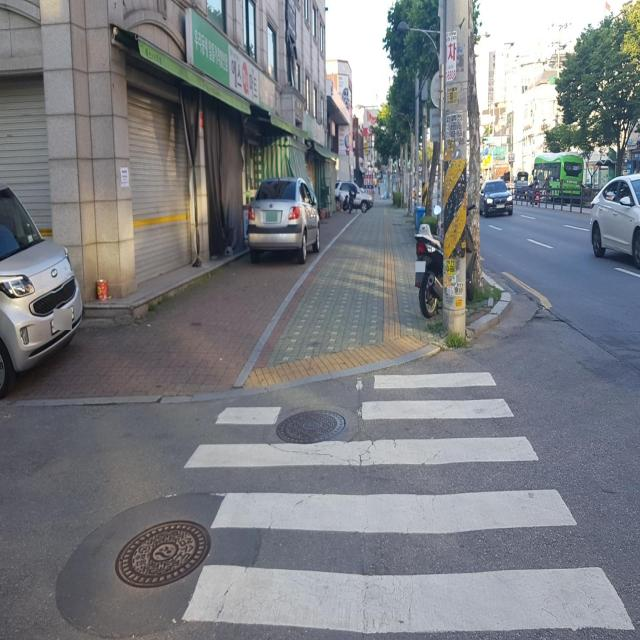횡단보도: (178, 366, 638, 640)
